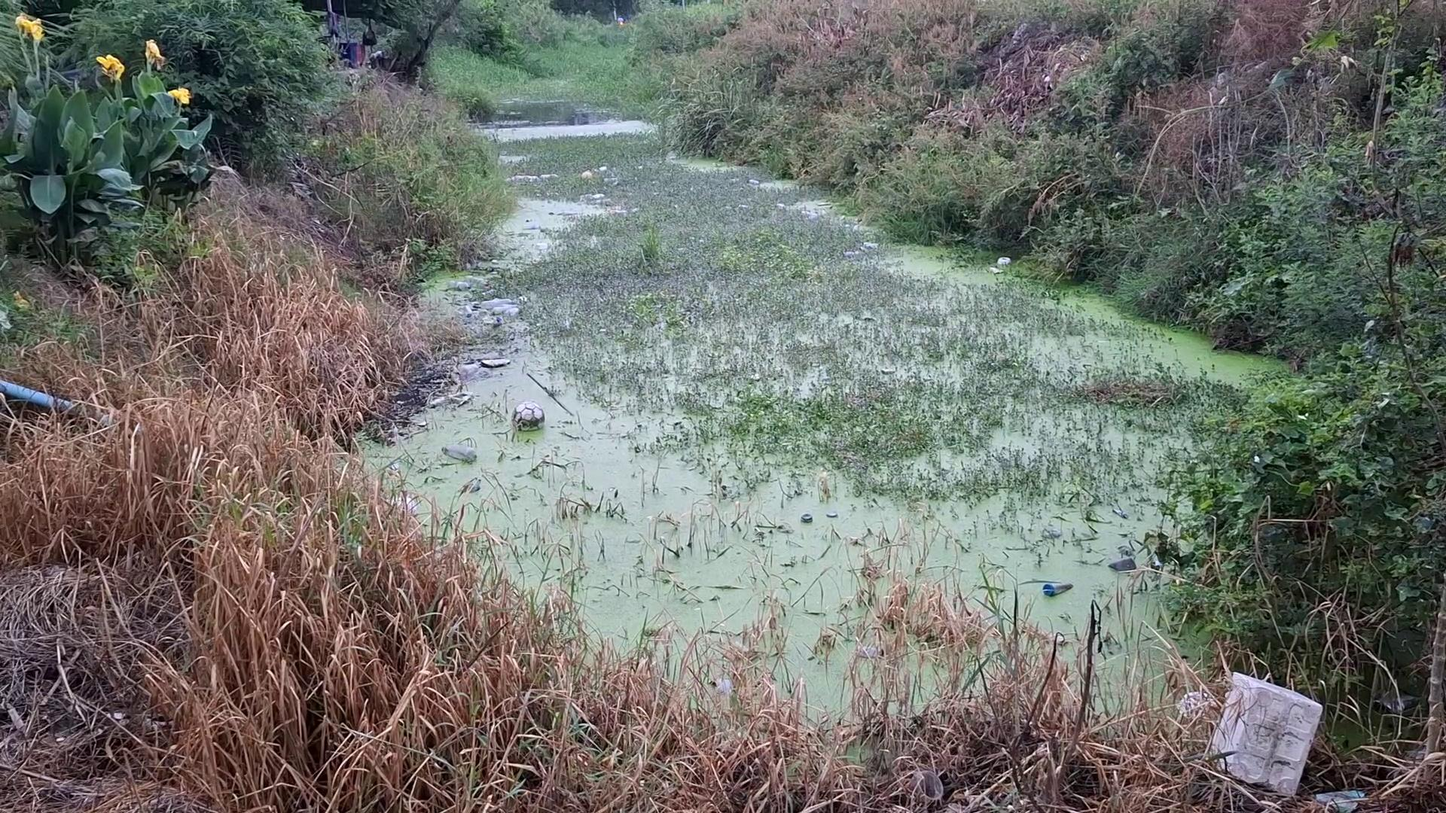ignore: (754, 303, 1197, 495), (575, 219, 911, 418), (495, 131, 767, 256)
trash: (466, 299, 530, 346), (504, 393, 551, 440), (436, 437, 484, 469), (449, 268, 500, 295), (846, 636, 894, 664), (456, 357, 523, 375), (1101, 554, 1144, 579), (1038, 574, 1080, 599), (452, 475, 488, 501), (978, 257, 1014, 281), (792, 512, 842, 528)
